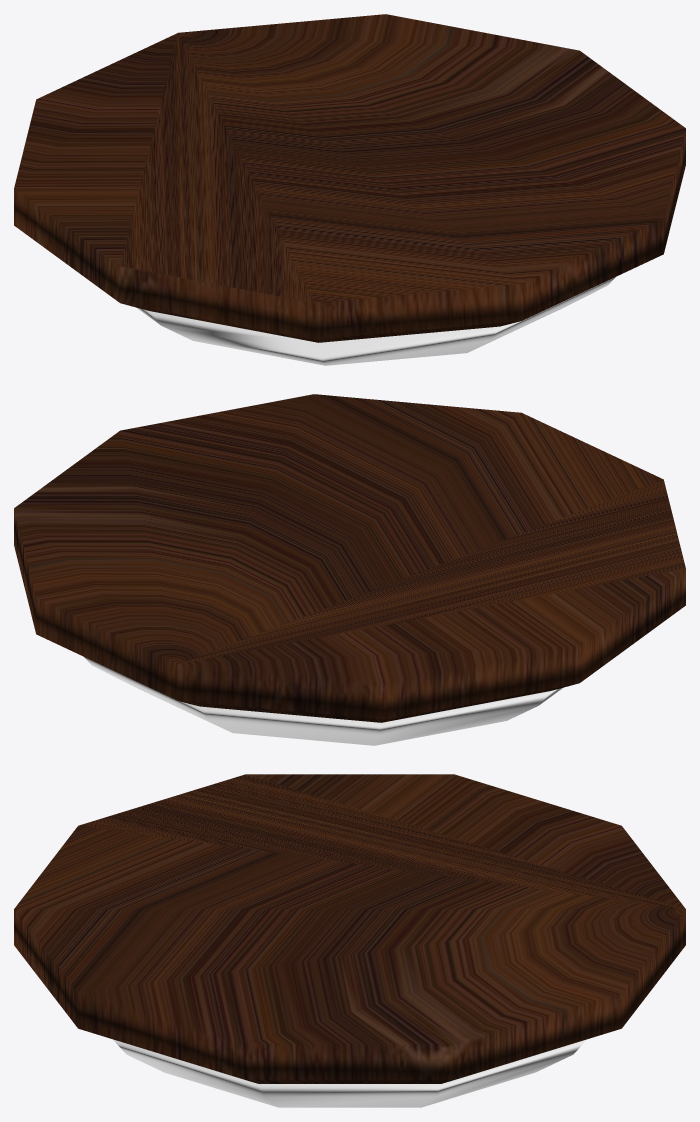
Rendered from ceilinglight.fbx.
3 views of the same model, one above another, from view 1: azimuth 30°, elevation 25°; view 2: azimuth 150°, elevation 25°; view 3: azimuth 270°, elevation 25° (orthographic). The views are drawn at different scales.
Parts seen in each view (by area): view 1: CeilingLamp; view 2: CeilingLamp; view 3: CeilingLamp.
Boxes of the visible parts, box(x1,y1,x2,y2) form: CeilingLamp: box(14, 14, 685, 365); CeilingLamp: box(14, 394, 685, 745); CeilingLamp: box(14, 774, 685, 1107).
Size of the model in its own units: 37.54 by 9.09 by 39.48.
Materials: 2 (1 with a texture image).
